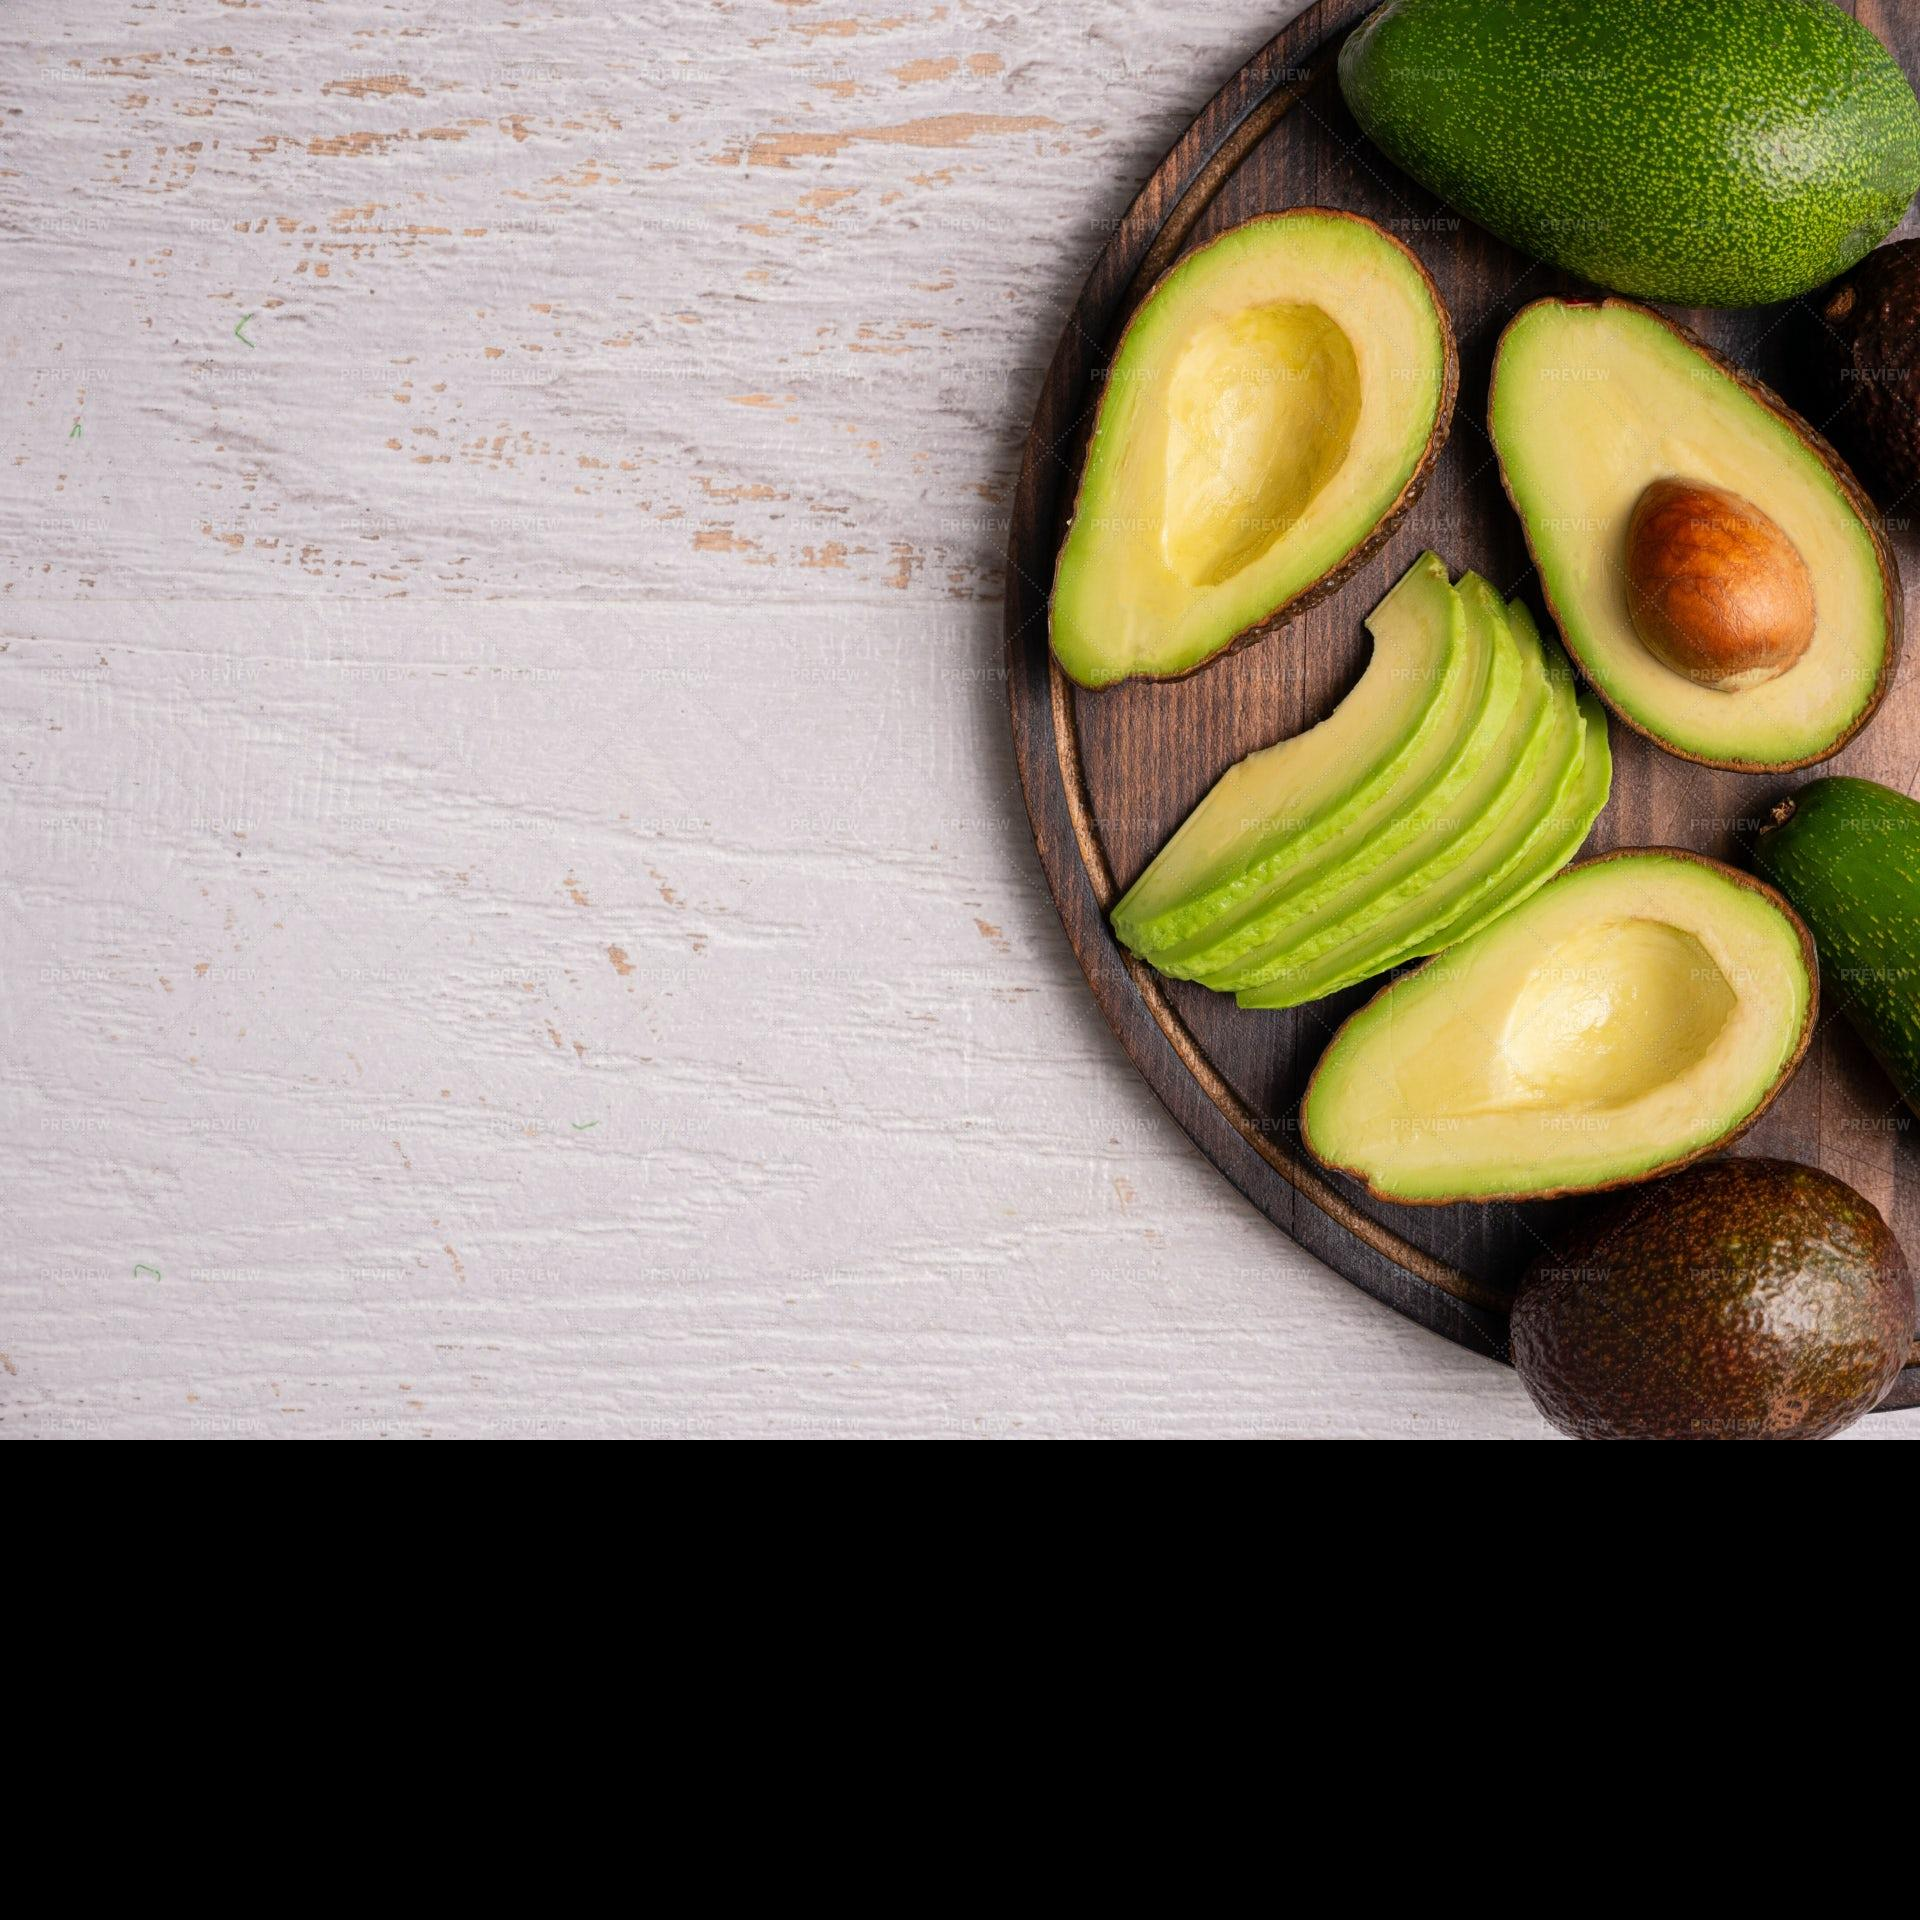ripe: (1510, 1159, 1915, 1440)
unripe: (1336, 5, 1920, 308)
